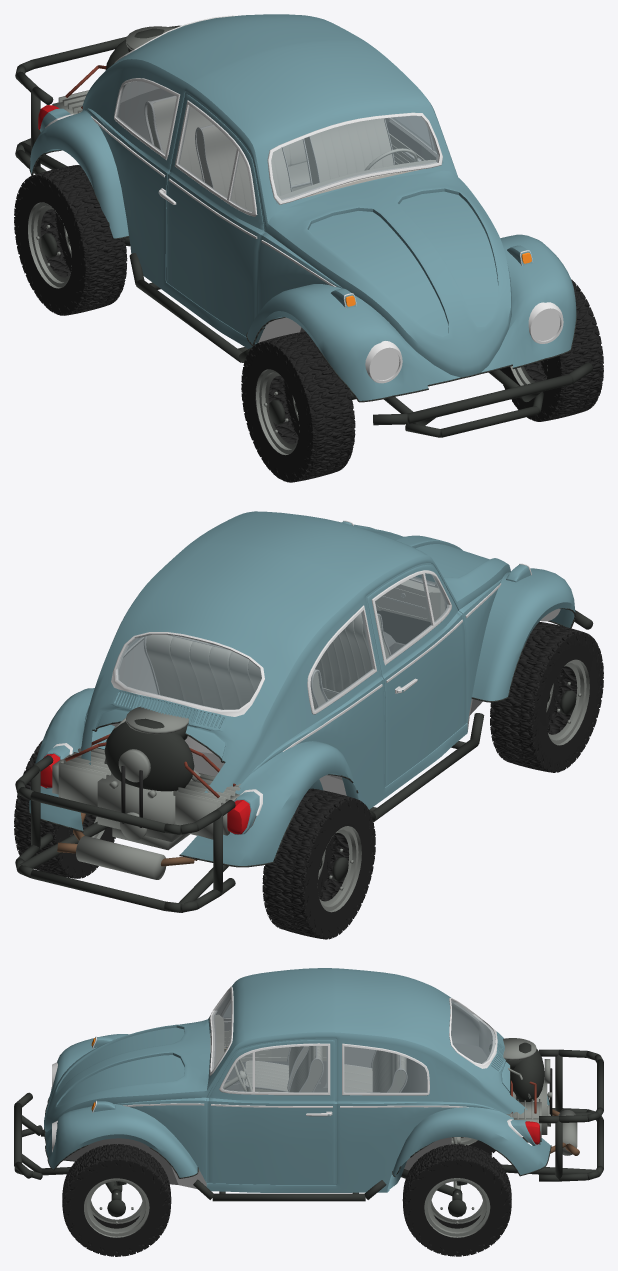
File: VEH_002_Stage2Baja.glb
3 renders of one model, top to bottom at view 1: azimuth 30°, elevation 25°; view 2: azimuth 150°, elevation 25°; view 3: azimuth 270°, elevation 25°, orthographic. The views are drawn at different scales.
Parts seen in each view (by area): view 1: B_Body_0, PART_008_ShortenedFrontHood_BODY_Stage2_RoundedNose_B_Body_H, PART_001_AllTerrainWheelSet_FR_Tire, PART_001_AllTerrainWheelSet_RR_Tire, PART_007_CutBajaFenders_BODY_Stage2_Fender_FR_0, B_Windshield_0, PART_007_CutBajaFenders_BODY_Stage2_Fender_FL_0, PART_001_AllTerrainWheelSet_FL_Tire, PART_007_CutBajaFenders_BODY_Stage2_Fender_RR_0, B_Body_1, B_SideWindows_0, B_InteriorDriverSeat2_0 (+17 smaller); view 2: B_Body_0, PART_001_AllTerrainWheelSet_RR_Tire, PART_001_AllTerrainWheelSet_FR_Tire, PART_007_CutBajaFenders_BODY_Stage2_Fender_RR_0, B_BackWindow_0, PART_007_CutBajaFenders_BODY_Stage2_Fender_FR_0, B_InteriorBackseat2_0, B_Body_1, PART_012_AirCooledRearEngine_ENGINE_FanShroud, PART_007_CutBajaFenders_BODY_Stage2_Fender_RL_0, B_SideWindows_0, B_SideWindowsBack_0 (+23 smaller); view 3: B_Body_0, PART_008_ShortenedFrontHood_BODY_Stage2_RoundedNose_B_Body_H, PART_001_AllTerrainWheelSet_FL_Tire, PART_001_AllTerrainWheelSet_RL_Tire, PART_007_CutBajaFenders_BODY_Stage2_Fender_RL_0, PART_007_CutBajaFenders_BODY_Stage2_Fender_FL_0, B_SideWindows_0, B_Body_1, B_SideWindowsBack_0, B_Body_2, B_BackWindow_0, PART_011_RockerGuards_PROTECT_Stage2_Rocker_1 (+23 smaller).
Part boxes in pixels (x1=…): B_Body_0: x1=82, y1=14, x2=457, y2=348; PART_008_ShortenedFrontHood_BODY_Stage2_RoundedNose_B_Body_H: x1=268, y1=170, x2=510, y2=367; PART_001_AllTerrainWheelSet_FR_Tire: x1=241, y1=331, x2=355, y2=482; PART_001_AllTerrainWheelSet_RR_Tire: x1=14, y1=165, x2=127, y2=315; PART_007_CutBajaFenders_BODY_Stage2_Fender_FR_0: x1=247, y1=284, x2=428, y2=400; B_Windshield_0: x1=271, y1=116, x2=443, y2=203; PART_007_CutBajaFenders_BODY_Stage2_Fender_FL_0: x1=500, y1=234, x2=576, y2=367; PART_001_AllTerrainWheelSet_FL_Tire: x1=500, y1=279, x2=603, y2=421; PART_007_CutBajaFenders_BODY_Stage2_Fender_RR_0: x1=30, y1=108, x2=128, y2=238; B_Body_1: x1=45, y1=15, x2=442, y2=216; B_SideWindows_0: x1=178, y1=105, x2=435, y2=212; B_InteriorDriverSeat2_0: x1=304, y1=118, x2=393, y2=184; B_Body_0: x1=81, y1=511, x2=505, y2=809; PART_001_AllTerrainWheelSet_RR_Tire: x1=262, y1=788, x2=375, y2=939; PART_001_AllTerrainWheelSet_FR_Tire: x1=490, y1=622, x2=603, y2=772; PART_007_CutBajaFenders_BODY_Stage2_Fender_RR_0: x1=180, y1=741, x2=358, y2=865; B_BackWindow_0: x1=116, y1=634, x2=261, y2=709; PART_007_CutBajaFenders_BODY_Stage2_Fender_FR_0: x1=472, y1=564, x2=575, y2=700; B_InteriorBackseat2_0: x1=146, y1=634, x2=325, y2=709; B_Body_1: x1=53, y1=570, x2=451, y2=815; PART_012_AirCooledRearEngine_ENGINE_FanShroud: x1=104, y1=718, x2=194, y2=791; PART_007_CutBajaFenders_BODY_Stage2_Fender_RL_0: x1=29, y1=688, x2=114, y2=830; B_SideWindows_0: x1=375, y1=573, x2=449, y2=659; B_SideWindowsBack_0: x1=127, y1=611, x2=373, y2=710; B_Body_0: x1=99, y1=968, x2=516, y2=1192; PART_008_ShortenedFrontHood_BODY_Stage2_RoundedNose_B_Body_H: x1=44, y1=1019, x2=210, y2=1124; PART_001_AllTerrainWheelSet_FL_Tire: x1=62, y1=1144, x2=171, y2=1256; PART_001_AllTerrainWheelSet_RL_Tire: x1=402, y1=1144, x2=511, y2=1256; PART_007_CutBajaFenders_BODY_Stage2_Fender_RL_0: x1=393, y1=1084, x2=550, y2=1175; PART_007_CutBajaFenders_BODY_Stage2_Fender_FL_0: x1=45, y1=1098, x2=197, y2=1177; B_SideWindows_0: x1=223, y1=1004, x2=327, y2=1092; B_Body_1: x1=209, y1=986, x2=522, y2=1137; B_SideWindowsBack_0: x1=344, y1=1046, x2=427, y2=1092; B_Body_2: x1=216, y1=993, x2=491, y2=1087; B_BackWindow_0: x1=451, y1=1000, x2=495, y2=1063; PART_011_RockerGuards_PROTECT_Stage2_Rocker_1: x1=193, y1=1179, x2=386, y2=1201.
Bounding box in the file's own units: 1.78 × 1.66 × 4.12.
